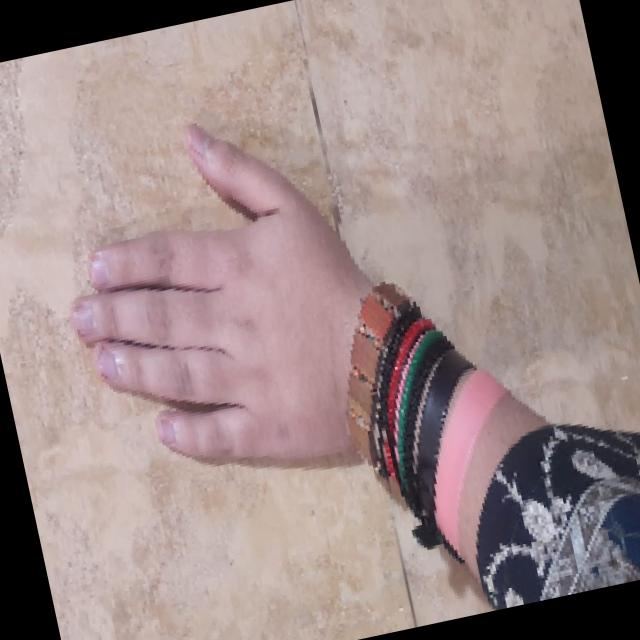Nail: (187, 123, 214, 153), (70, 304, 93, 336), (96, 348, 117, 379), (155, 416, 175, 443), (88, 257, 108, 282)
